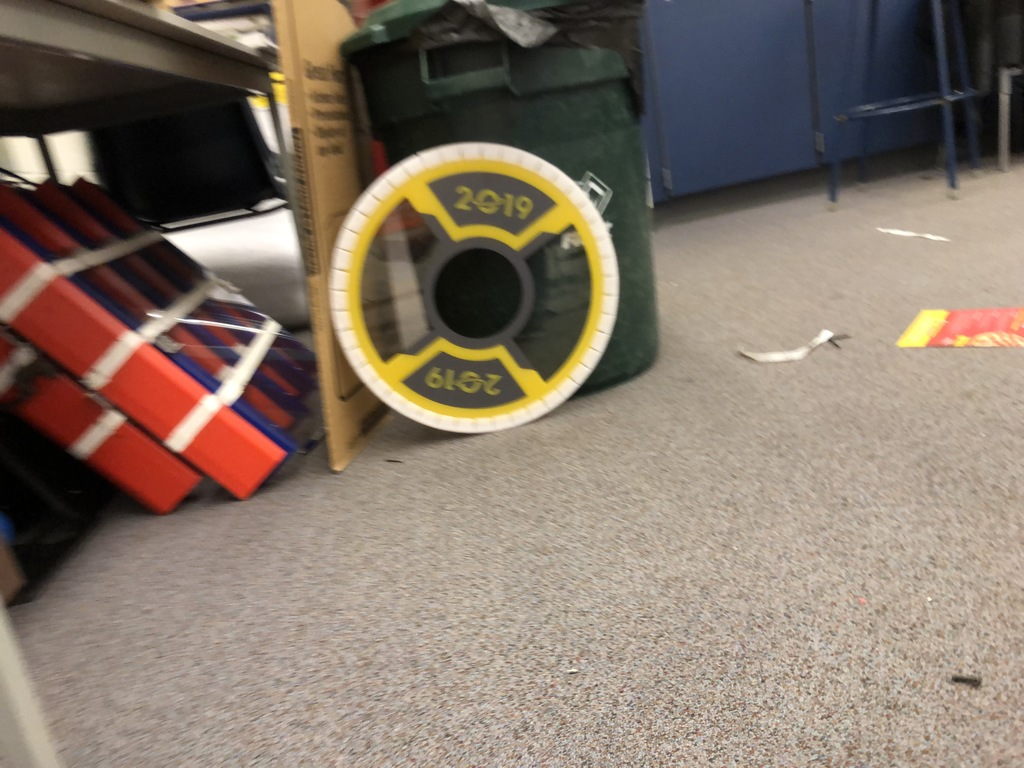hatch_panel: (330, 136, 632, 446)
